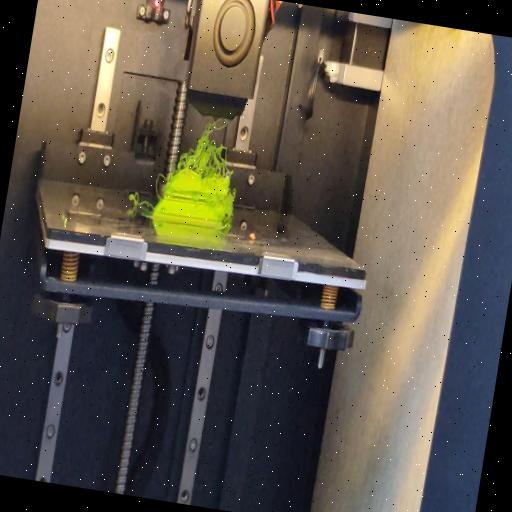spaghetti: (176, 112, 236, 182), (126, 186, 154, 212), (154, 169, 167, 196), (221, 218, 234, 234)
